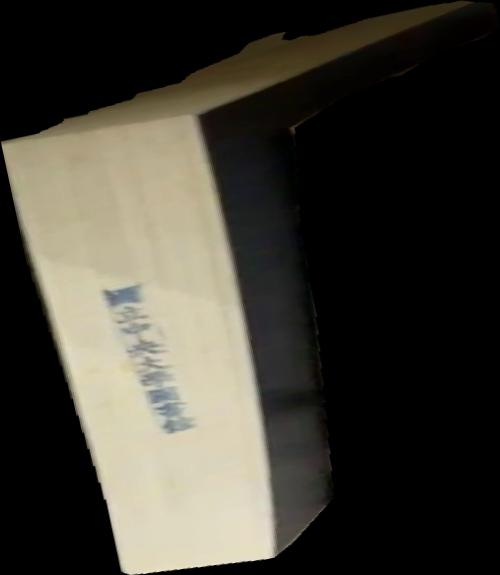backward: (1, 1, 500, 575)
